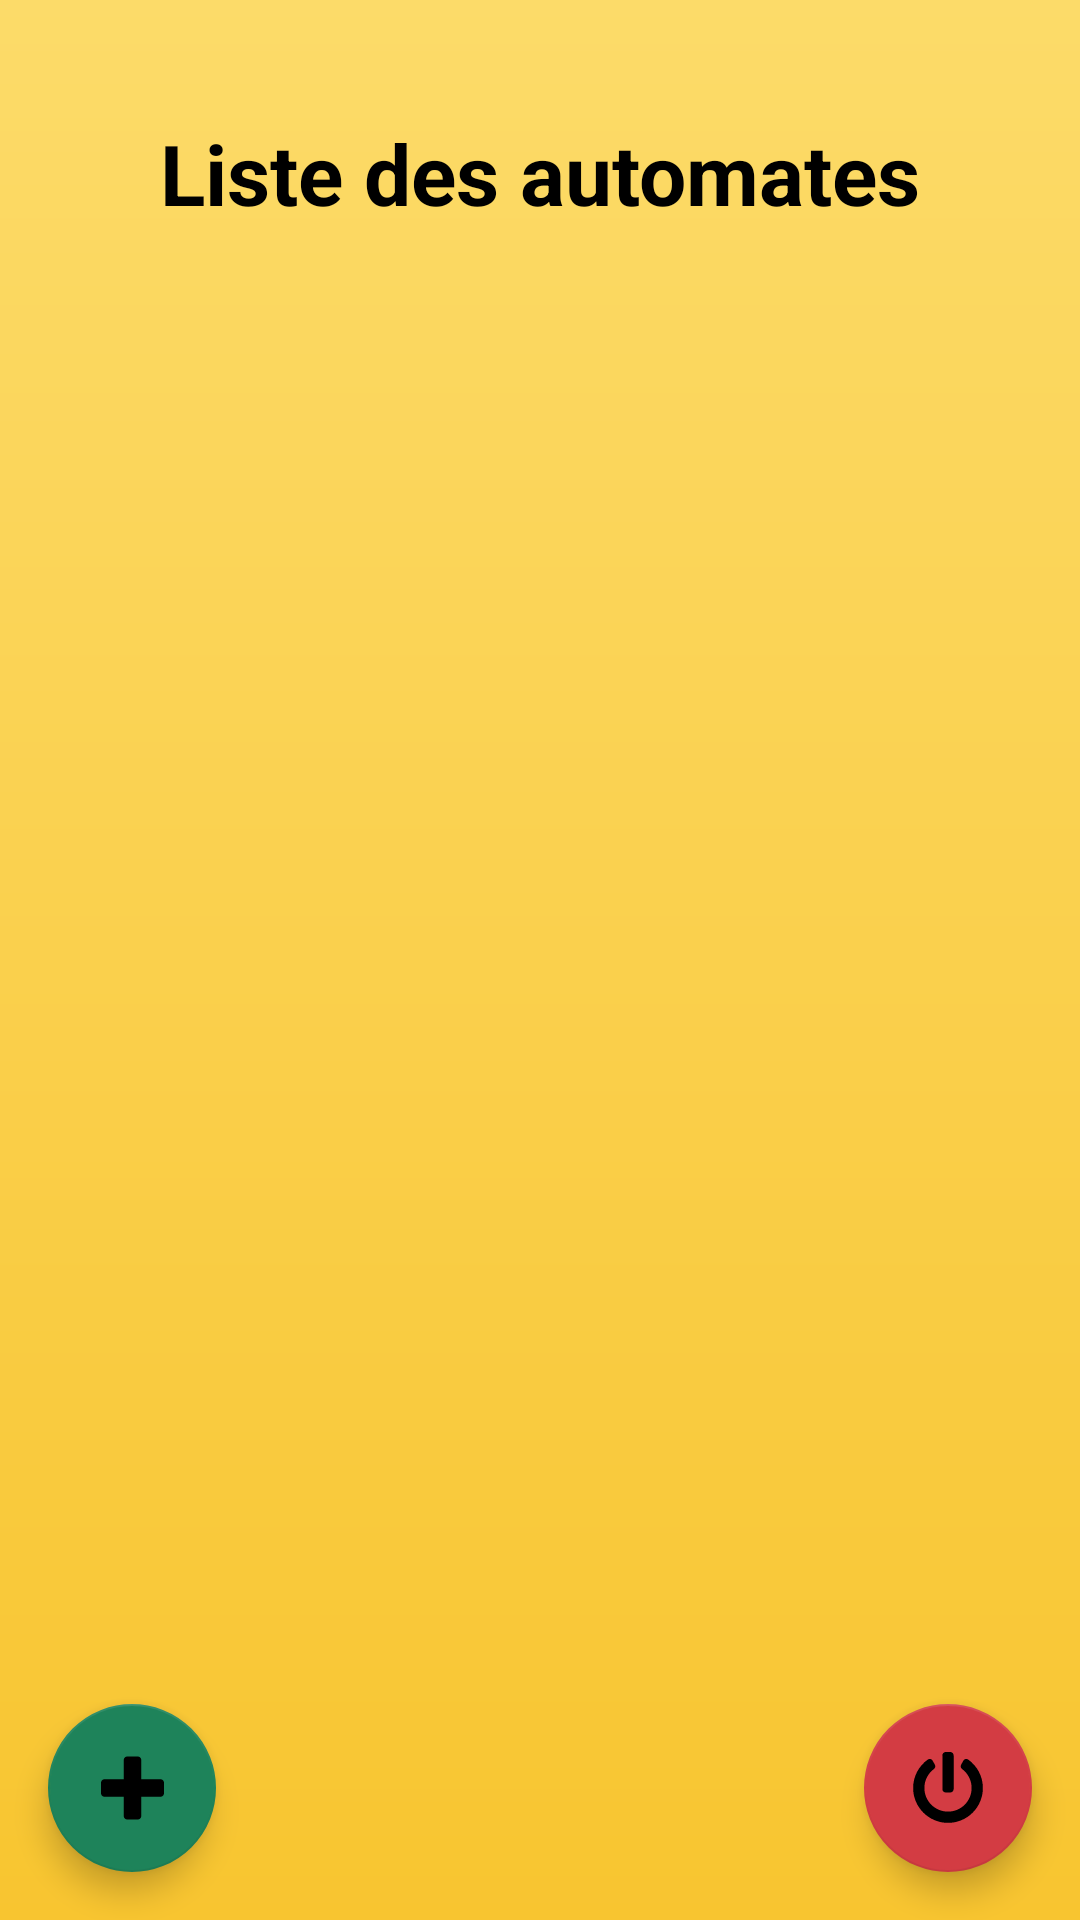

Point at icon controls on the screen. Image size 1080px x 1920px, points as (x,y).
plus: (132,1788)
